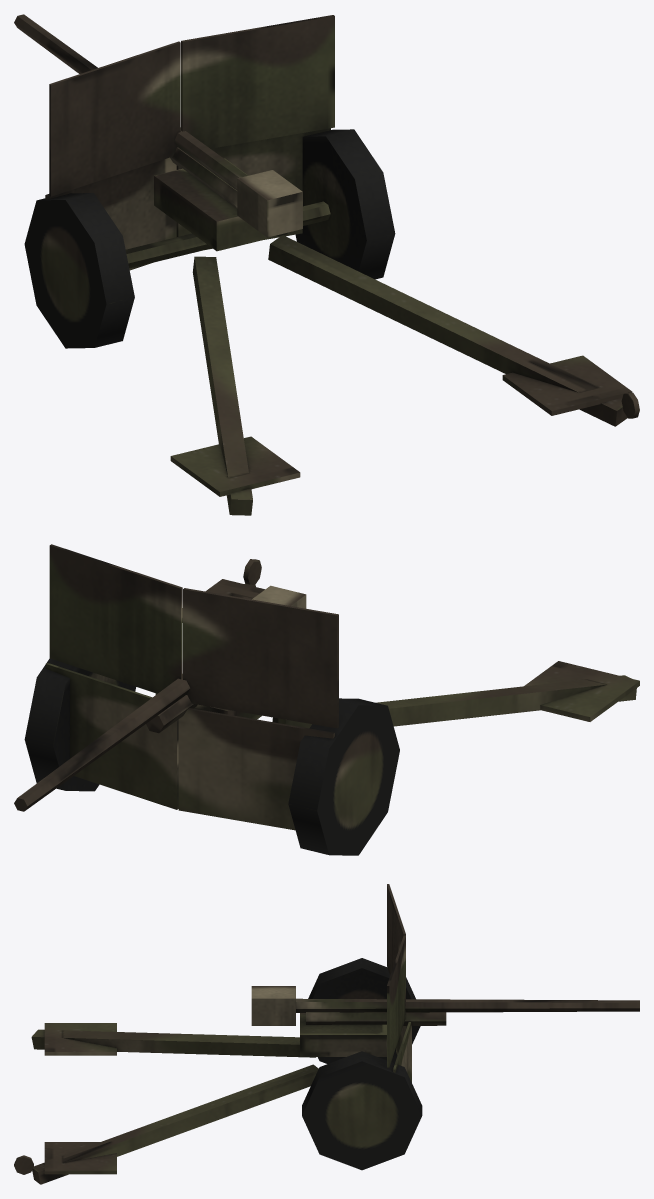
File: WZ36_BOFORS_LOW.fbx
3 renders of one model, top to bottom at view 1: azimuth 30°, elevation 25°; view 2: azimuth 150°, elevation 25°; view 3: azimuth 270°, elevation 25°, orthographic. The views are drawn at different scales.
Visible parts, largest first — view 1: Tourelle_01, Bras_Droit, Roue_G1, Roue_D1, Bras_Gauche, Axe_Canon_01, Canon_01, Chassis; view 2: Tourelle_01, Roue_G1, Bras_Gauche, Roue_D1, Canon_01, Axe_Canon_01, Bras_Droit; view 3: Roue_D1, Bras_Droit, Bras_Gauche, Tourelle_01, Canon_01, Axe_Canon_01, Roue_G1.
Part boxes in pixels (box(x1,y1,x2,y2)): Tourelle_01: box(45, 15, 334, 270); Bras_Droit: box(268, 235, 639, 426); Roue_G1: box(24, 193, 134, 348); Roue_D1: box(295, 129, 395, 279); Bras_Gauche: box(170, 256, 300, 515); Axe_Canon_01: box(170, 147, 302, 237); Canon_01: box(14, 14, 247, 190); Chassis: box(125, 201, 330, 268); Tourelle_01: box(45, 544, 338, 830); Roue_G1: box(288, 698, 399, 855); Bras_Gauche: box(272, 661, 639, 728); Roue_D1: box(24, 658, 135, 791); Canon_01: box(14, 675, 190, 811); Axe_Canon_01: box(146, 585, 306, 733); Bras_Droit: box(182, 559, 264, 622); Roue_D1: box(302, 1051, 422, 1170); Bras_Droit: box(14, 1064, 318, 1184); Bras_Gauche: box(31, 1023, 315, 1057); Tourelle_01: box(300, 884, 411, 1082); Canon_01: box(296, 998, 639, 1012); Axe_Canon_01: box(251, 986, 446, 1025); Roue_G1: box(308, 958, 420, 1063).
Bounding box in the file's own units: 174 × 312 × 101.
Materials: 1 (1 with a texture image).
